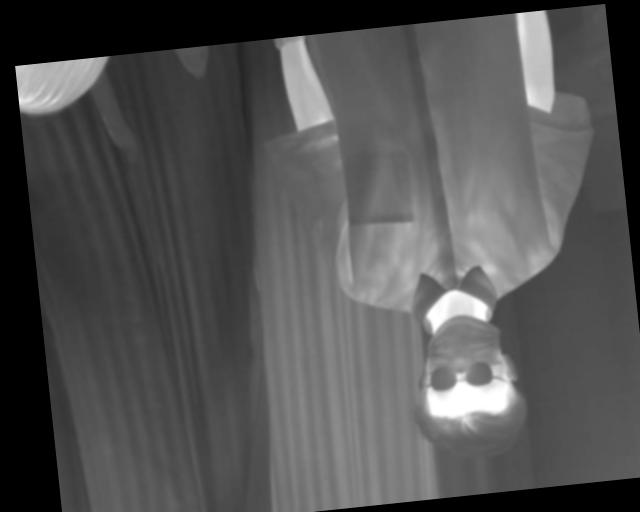face: (399, 307, 536, 464)
